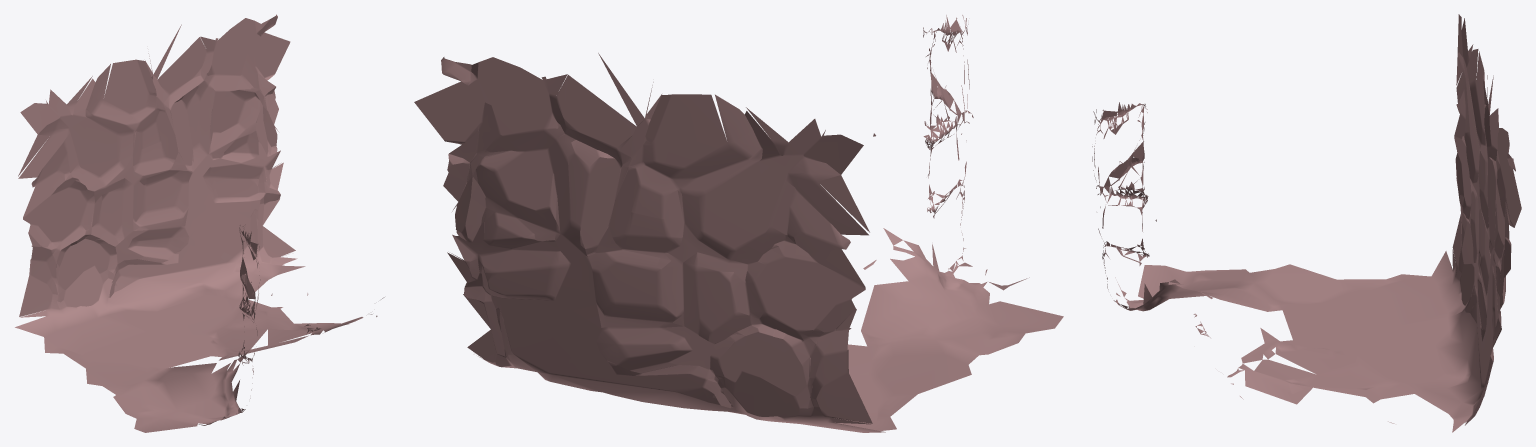
Rendered from canyon.fbx_PolyShape__3_LODs.fbx.
3 views of the same model, side by side, from view 1: azimuth 30°, elevation 25°; view 2: azimuth 150°, elevation 25°; view 3: azimuth 270°, elevation 25° (orthographic). The views are drawn at different scales.
Visible parts, largest first — view 1: PolyShape (3)_LOD0; view 2: PolyShape (3)_LOD0; view 3: PolyShape (3)_LOD0.
Part boxes in pixels (box(x1,y1,x2,y2)): PolyShape (3)_LOD0: box(15, 14, 384, 432); PolyShape (3)_LOD0: box(414, 15, 1063, 432); PolyShape (3)_LOD0: box(1092, 14, 1521, 432).
Size of what is drawn, in the model's own units: 4486 by 3601 by 4627.
